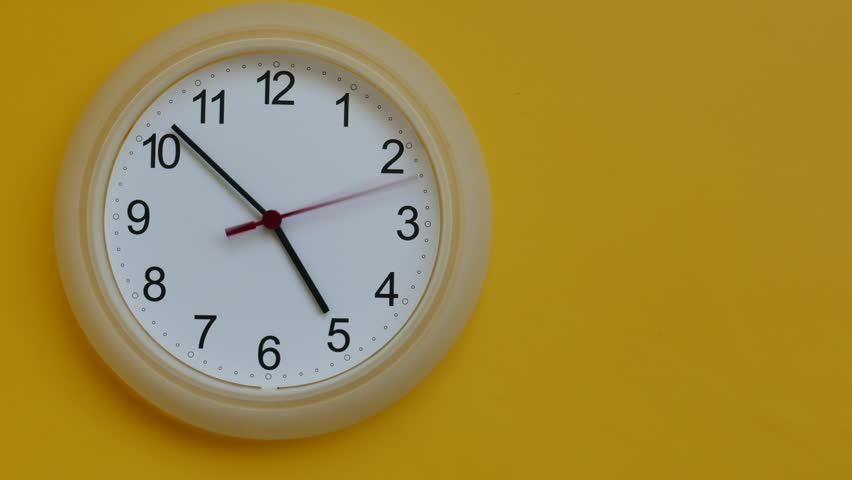clock: (105, 42, 445, 392)
